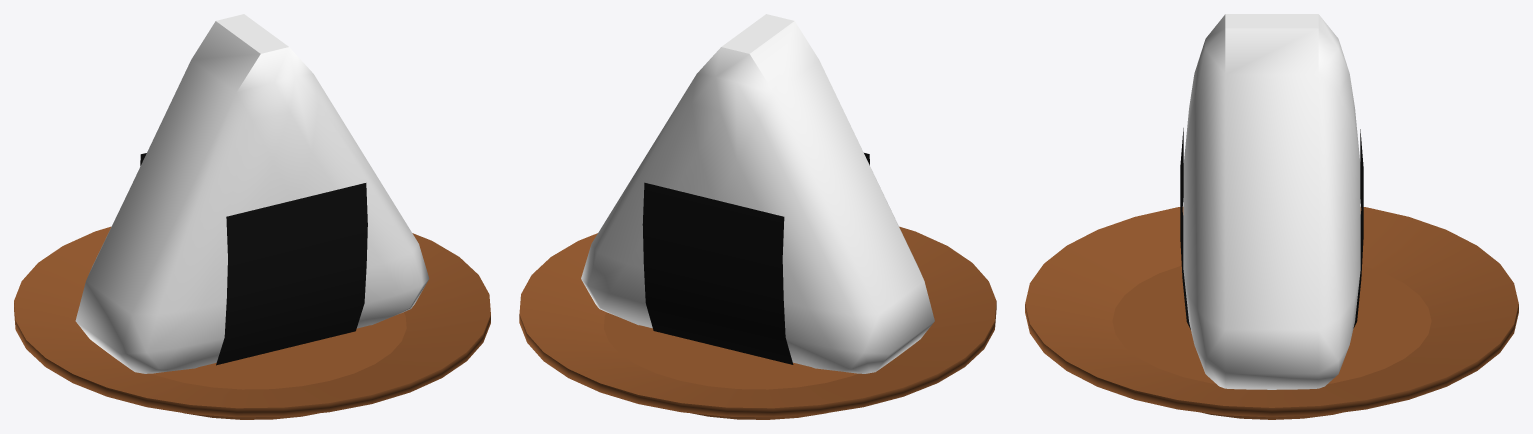
The model's file is HpItem.fbx.
The picture shows the model from 3 angles, left to right: view 1: azimuth 30°, elevation 25°; view 2: azimuth 150°, elevation 25°; view 3: azimuth 270°, elevation 25°; orthographic projection. The views are drawn at different scales.
Visible parts, largest first — view 1: Cylinder; view 2: Cylinder; view 3: Cylinder.
Boxes of the visible parts, x1,y1,x2,y2 form: Cylinder: (14, 14, 490, 419); Cylinder: (519, 14, 996, 419); Cylinder: (1025, 14, 1518, 419).
Bounding box in the file's own units: 96.99 × 71.83 × 96.99.
